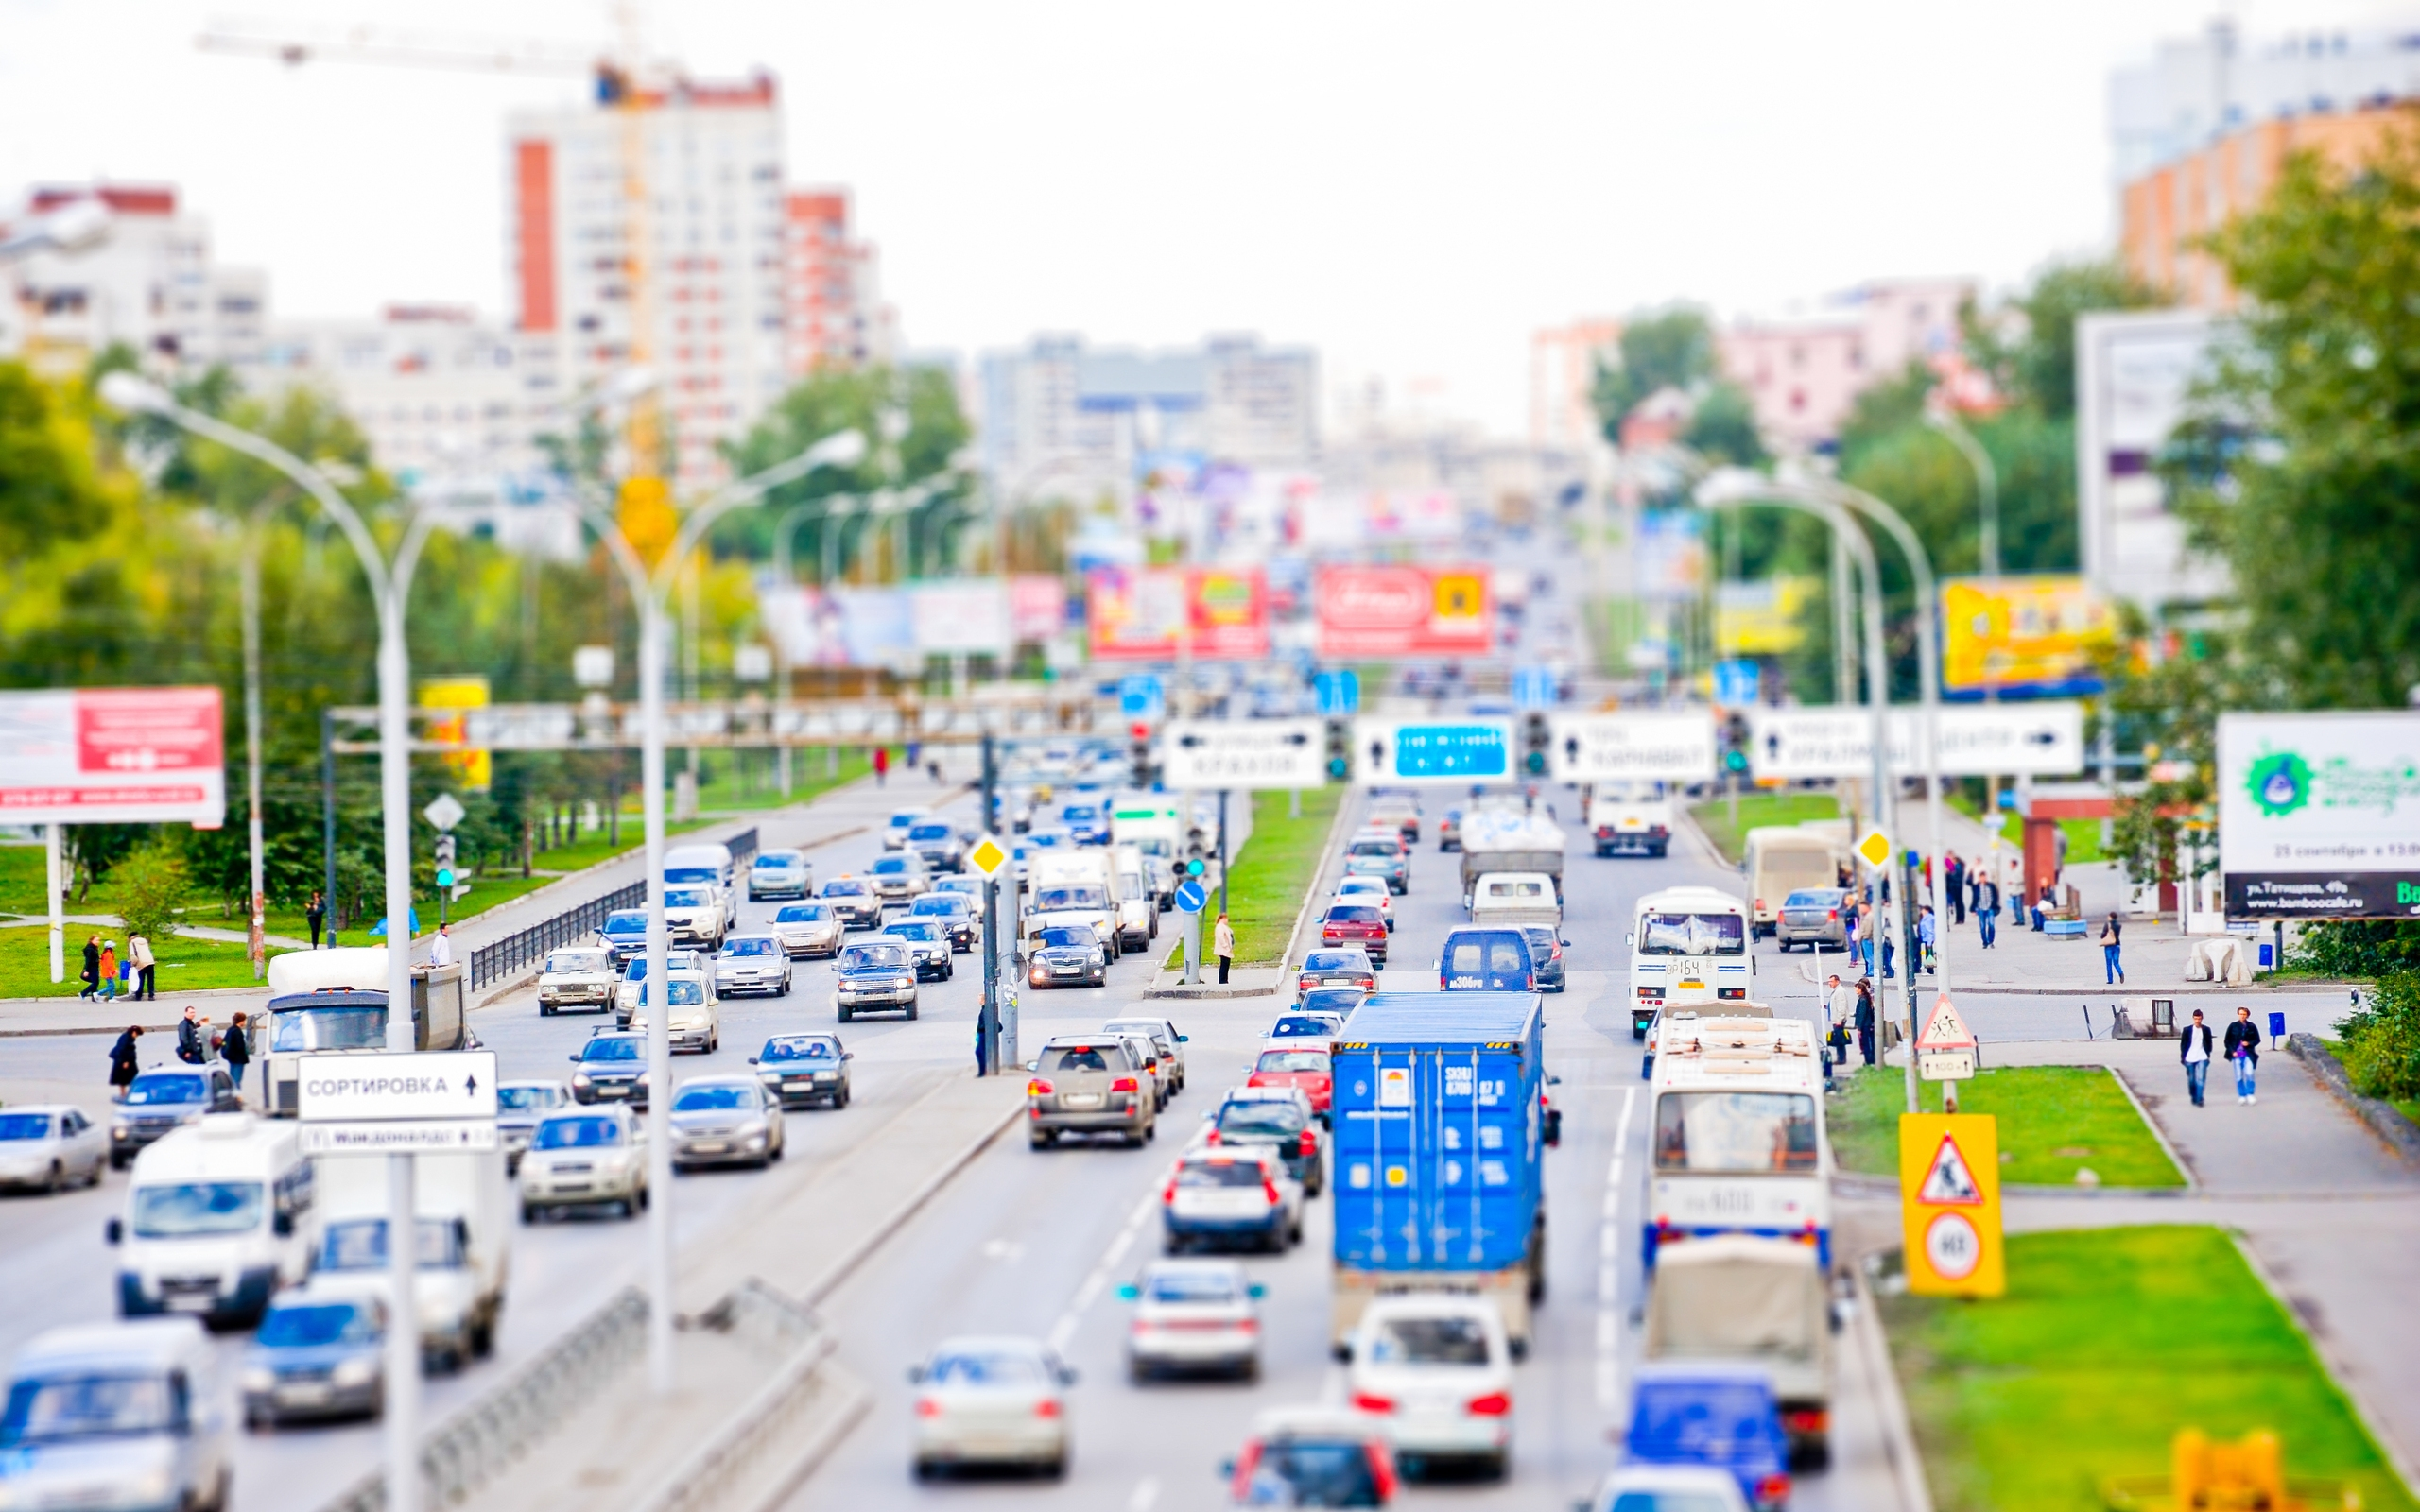car: (1612, 986, 1867, 1328), (95, 1096, 329, 1365), (1625, 1223, 1856, 1486), (1, 1297, 259, 1512), (290, 1153, 535, 1380), (1319, 1269, 1538, 1499), (883, 1315, 1094, 1502), (218, 1271, 418, 1445), (1600, 871, 1785, 1055), (1108, 1237, 1289, 1407), (1610, 1359, 1805, 1512), (496, 1089, 669, 1237), (1007, 1024, 1171, 1161), (1149, 1128, 1314, 1265), (96, 1055, 256, 1184), (647, 1062, 799, 1184), (1188, 1075, 1331, 1199), (1, 1082, 119, 1213), (739, 1015, 871, 1127), (816, 922, 939, 1036), (1571, 768, 1687, 866), (525, 933, 631, 1030), (1428, 922, 1546, 1006), (1007, 910, 1116, 998), (562, 1026, 672, 1114), (699, 924, 808, 1012), (627, 970, 736, 1057), (1772, 874, 1858, 964), (1289, 938, 1390, 1014), (1098, 837, 1161, 957), (649, 878, 730, 964), (894, 809, 974, 890), (736, 838, 823, 912), (891, 885, 978, 959), (1322, 892, 1403, 971), (810, 866, 897, 939), (1337, 823, 1417, 902), (1322, 869, 1403, 928), (1513, 919, 1568, 1004)
pedestrian: (2169, 1002, 2219, 1115), (2214, 998, 2264, 1111), (1962, 863, 2009, 966), (118, 914, 165, 1007), (2093, 899, 2132, 994), (1204, 902, 1243, 998), (1821, 971, 1859, 1066), (1828, 884, 1865, 971), (1906, 894, 1943, 981), (68, 926, 108, 1005), (88, 930, 128, 1004), (300, 874, 331, 960), (423, 914, 457, 973), (859, 736, 892, 796)
